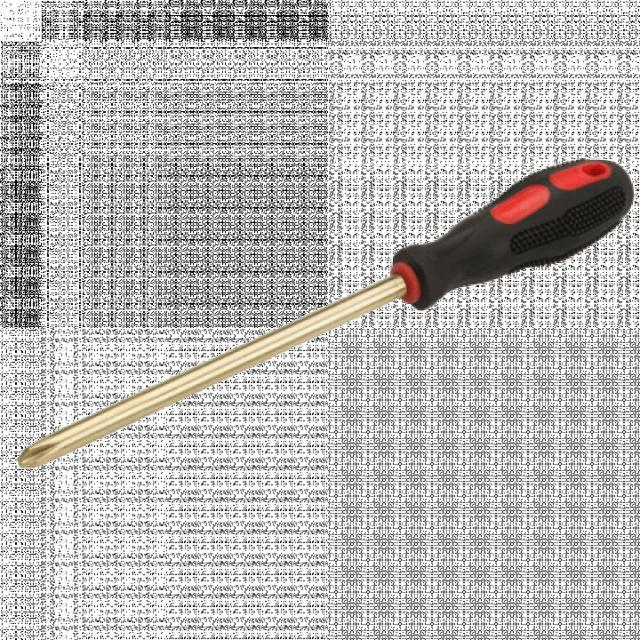screwdriver: (13, 154, 638, 473)
